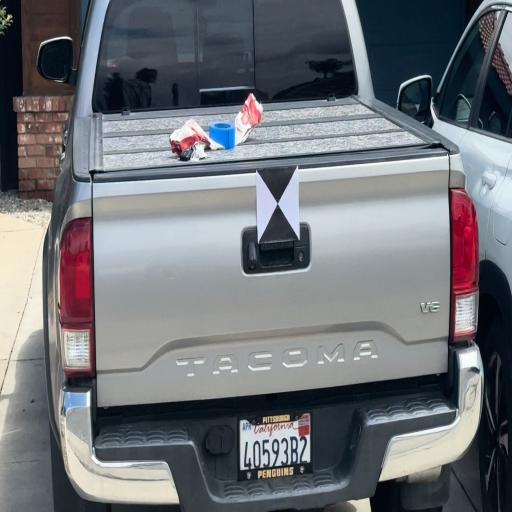target: (256, 168, 300, 239)
